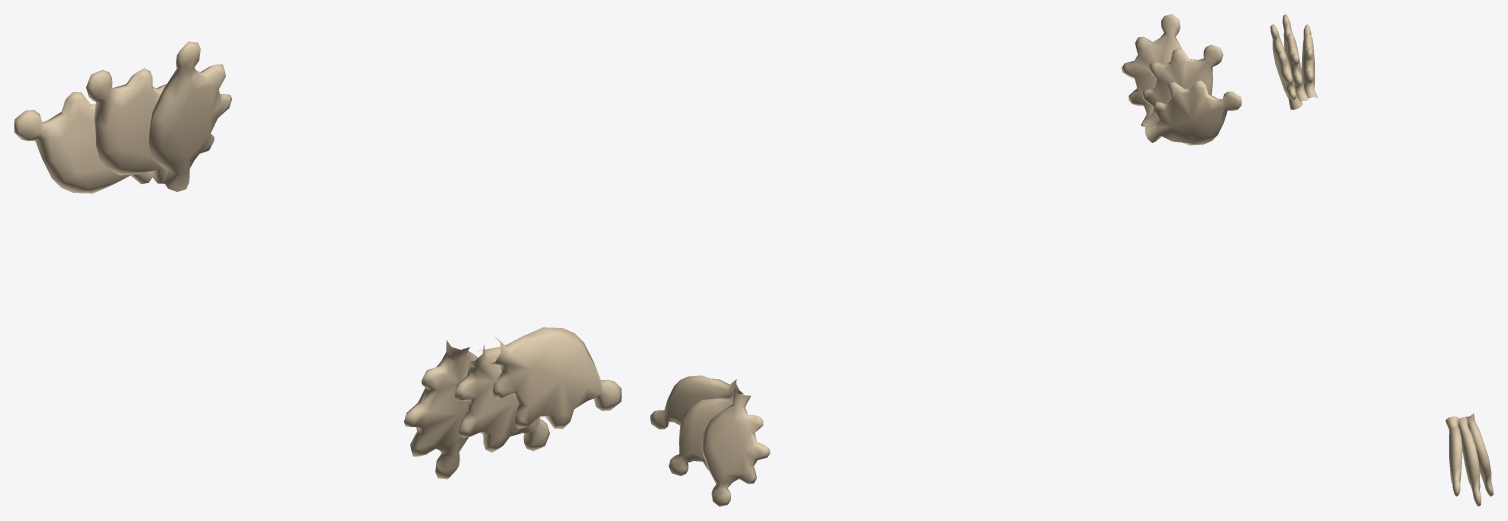
File: S12_Bird04_L2_Ear.glb
3 renders of one model, left to right at view 1: azimuth 30°, elevation 25°; view 2: azimuth 150°, elevation 25°; view 3: azimuth 270°, elevation 25°, orthographic. The views are drawn at different scales.
Visible parts, largest first — view 1: S12_Bird04_L2_Ear__Ear_L__surface0__lod0, S12_Bird04_L2_Ear__Ear_R__surface1__lod0; view 2: S12_Bird04_L2_Ear__Ear_L__surface0__lod0, S12_Bird04_L2_Ear__Ear_R__surface1__lod0; view 3: S12_Bird04_L2_Ear__Ear_R__surface1__lod0, S12_Bird04_L2_Ear__Ear_L__surface0__lod0.
Boxes of the visible parts, left/top/right/bottom form: S12_Bird04_L2_Ear__Ear_L__surface0__lod0: left=14, top=41, right=231, bottom=193; S12_Bird04_L2_Ear__Ear_R__surface1__lod0: left=404, top=327, right=621, bottom=479; S12_Bird04_L2_Ear__Ear_L__surface0__lod0: left=1121, top=14, right=1241, bottom=145; S12_Bird04_L2_Ear__Ear_R__surface1__lod0: left=650, top=375, right=770, bottom=506; S12_Bird04_L2_Ear__Ear_R__surface1__lod0: left=1445, top=413, right=1493, bottom=506; S12_Bird04_L2_Ear__Ear_L__surface0__lod0: left=1270, top=14, right=1317, bottom=109.
Size of the model in its own units: 180 by 162 by 91.95.
